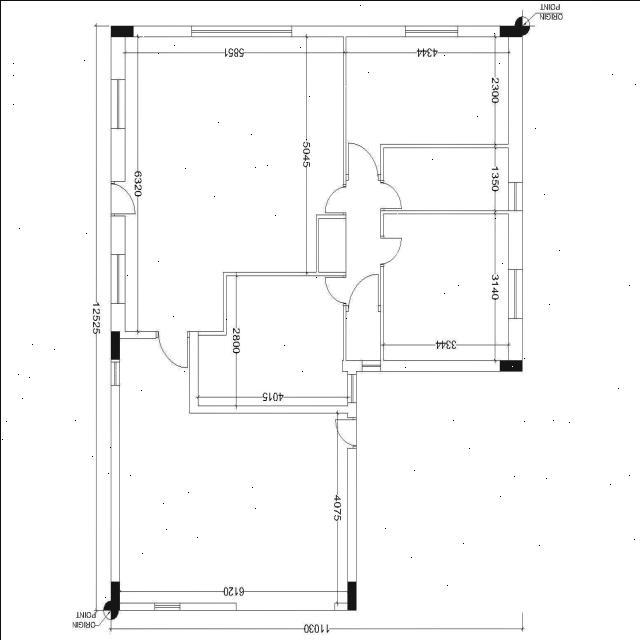Column: (346, 580, 356, 610), (498, 24, 522, 36), (110, 580, 119, 610), (110, 24, 132, 36), (499, 359, 521, 371), (110, 331, 119, 358)
Door: (153, 329, 190, 369), (344, 141, 380, 179), (347, 272, 381, 312), (109, 179, 135, 217), (334, 416, 356, 448), (324, 274, 346, 306), (379, 234, 401, 266), (324, 183, 346, 215), (379, 180, 402, 210)
Window: (189, 23, 292, 38), (108, 252, 125, 304), (109, 77, 125, 129), (403, 23, 458, 38), (507, 267, 522, 319), (506, 180, 522, 211), (346, 373, 356, 403), (109, 360, 120, 386), (152, 600, 180, 610), (360, 359, 380, 371)
